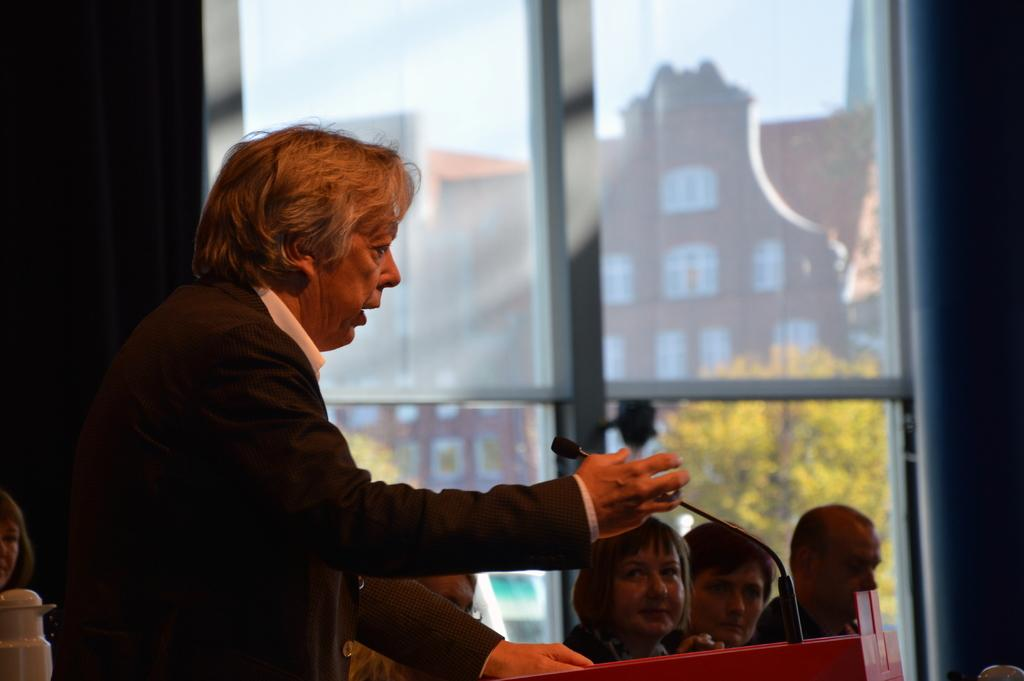Sem Máscara: (313, 203, 399, 350), (599, 541, 683, 639), (687, 558, 765, 649), (825, 517, 879, 620), (411, 572, 475, 613)
